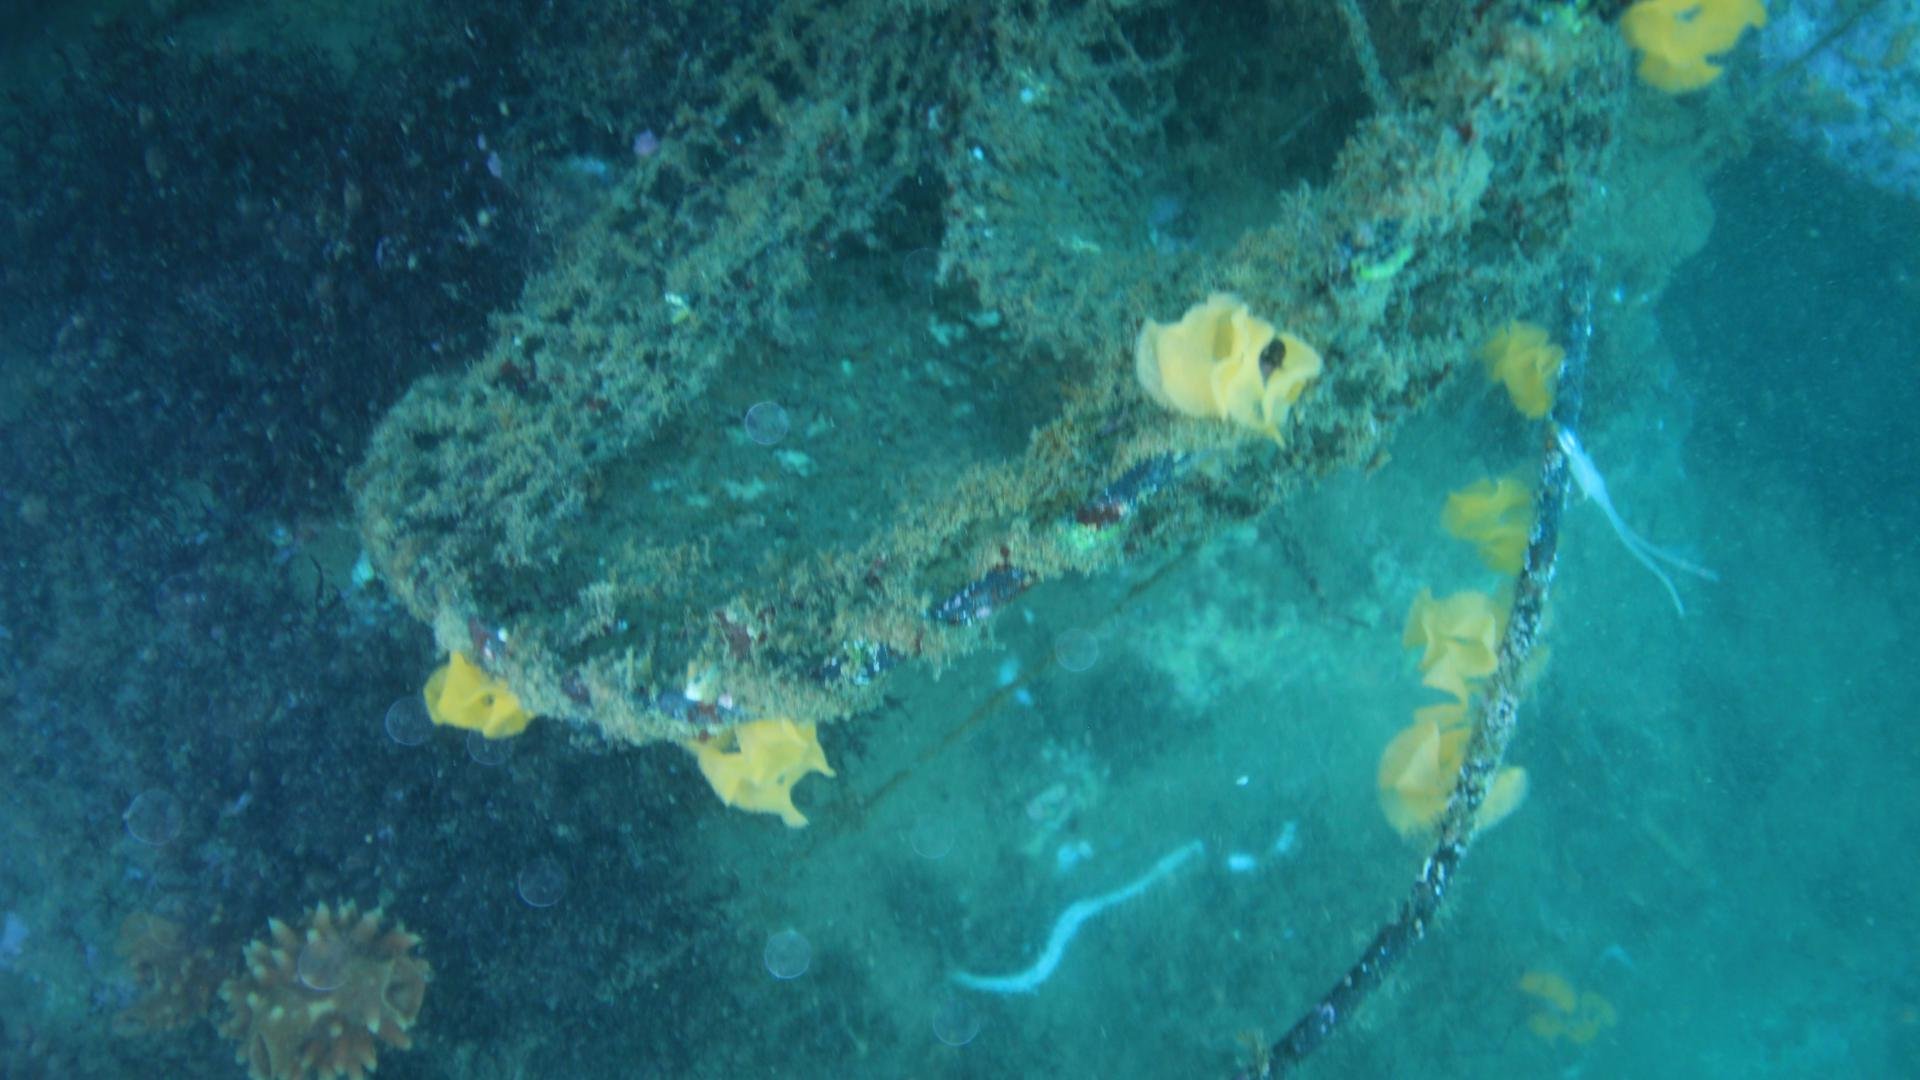fish net: (407, 0, 1174, 555)
